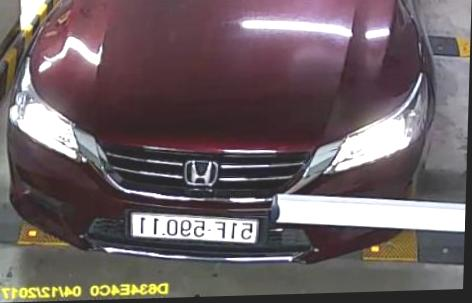License_Plate: (129, 210, 258, 246)
